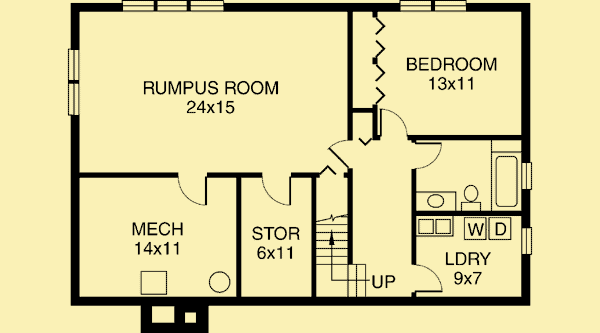door: (258, 172, 292, 209), (175, 174, 212, 207), (377, 108, 411, 140), (411, 263, 444, 294), (411, 142, 444, 172), (325, 136, 351, 169)
large_sink: (459, 184, 482, 209)
small_sink: (416, 190, 460, 213)
stairs: (309, 214, 368, 296)
tub: (490, 151, 523, 212)
twin_sink: (414, 215, 455, 238)
windows: (125, 1, 224, 11), (68, 47, 81, 117), (400, 1, 468, 13), (519, 227, 535, 259), (520, 158, 533, 193)
